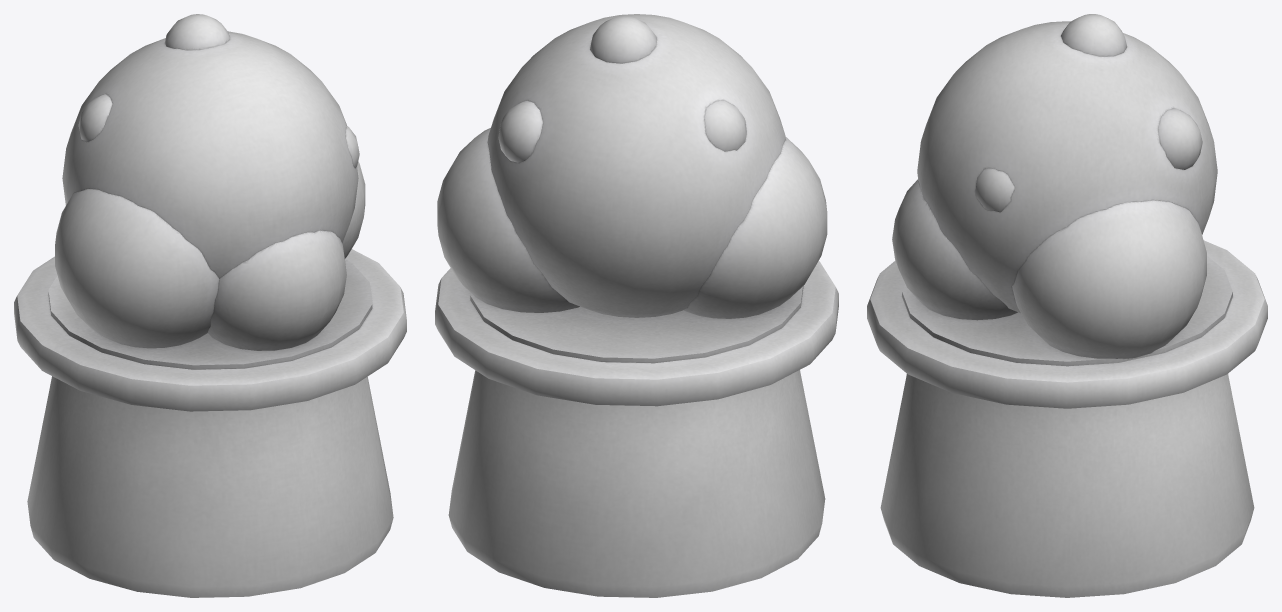
File: ShipPlanter.fbx
The picture shows the model from 3 angles, left to right: view 1: azimuth 30°, elevation 25°; view 2: azimuth 150°, elevation 25°; view 3: azimuth 270°, elevation 25°; orthographic projection. The views are drawn at different scales.
Parts seen in each view (by area): view 1: ShipPlanter; view 2: ShipPlanter; view 3: ShipPlanter.
Boxes of the visible parts, left/top/right/bottom form: ShipPlanter: left=14, top=14, right=406, bottom=597; ShipPlanter: left=435, top=14, right=838, bottom=597; ShipPlanter: left=867, top=14, right=1267, bottom=597.
Bounding box in the file's own units: 0.8 × 1.12 × 0.8.
